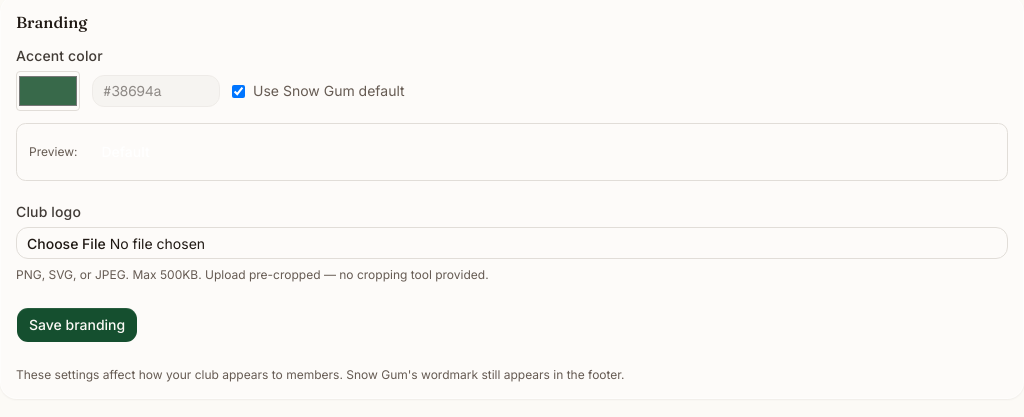
it: BrandingSettingsForm › (a) toggling 'Use Snow Gum default' checkbox › unchecking the box re-enables the color inputs and shows 'Your color' preview text
This screenshot has width=1024, height=417.
Uncheck (currently checked because accentColor is null)
Step 1. Click the checkbox labelled "Use Snow Gum default" → click(238, 91), box [232,84,245,98]
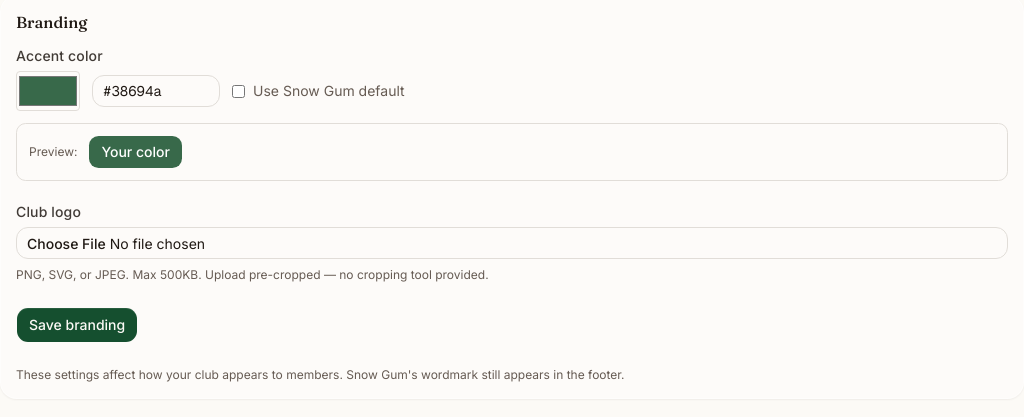
Expected: the colour field named "Accent color picker" is enabled, [16,71,80,111]
Now the button "Your color" is shown, box [90,136,182,168]
